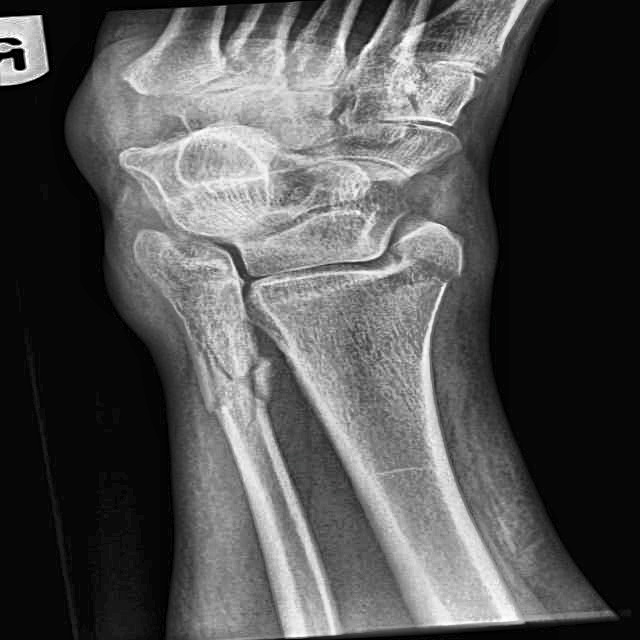Comminuted: (172, 343, 299, 430)
Greenstick: (372, 237, 483, 300)
